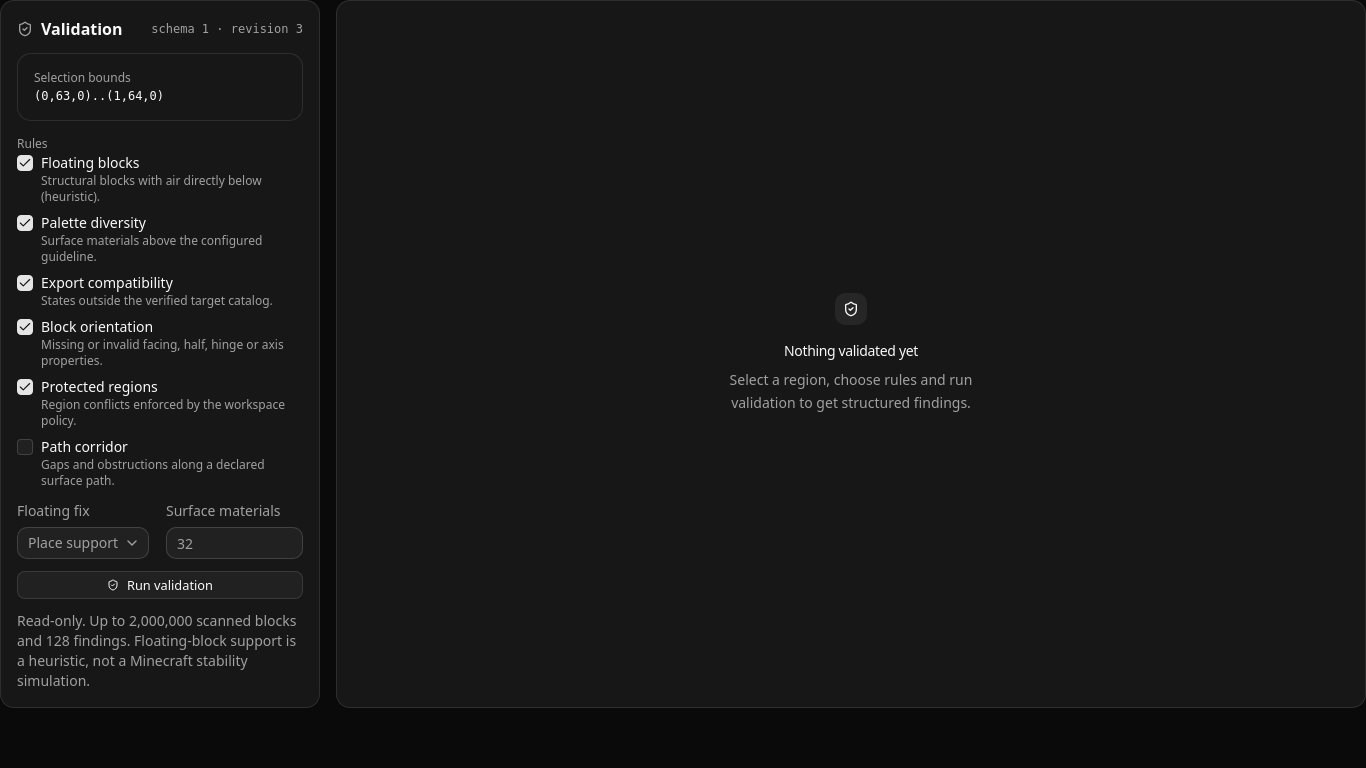
validation panel › runs the default rules and previews a suggested fix
Expected: the text "(0,63,0)..(1,64,0)" is shown, [34,89,164,103]
Click the button "Run validation". click: (160, 585)
box: [17,571,303,599]
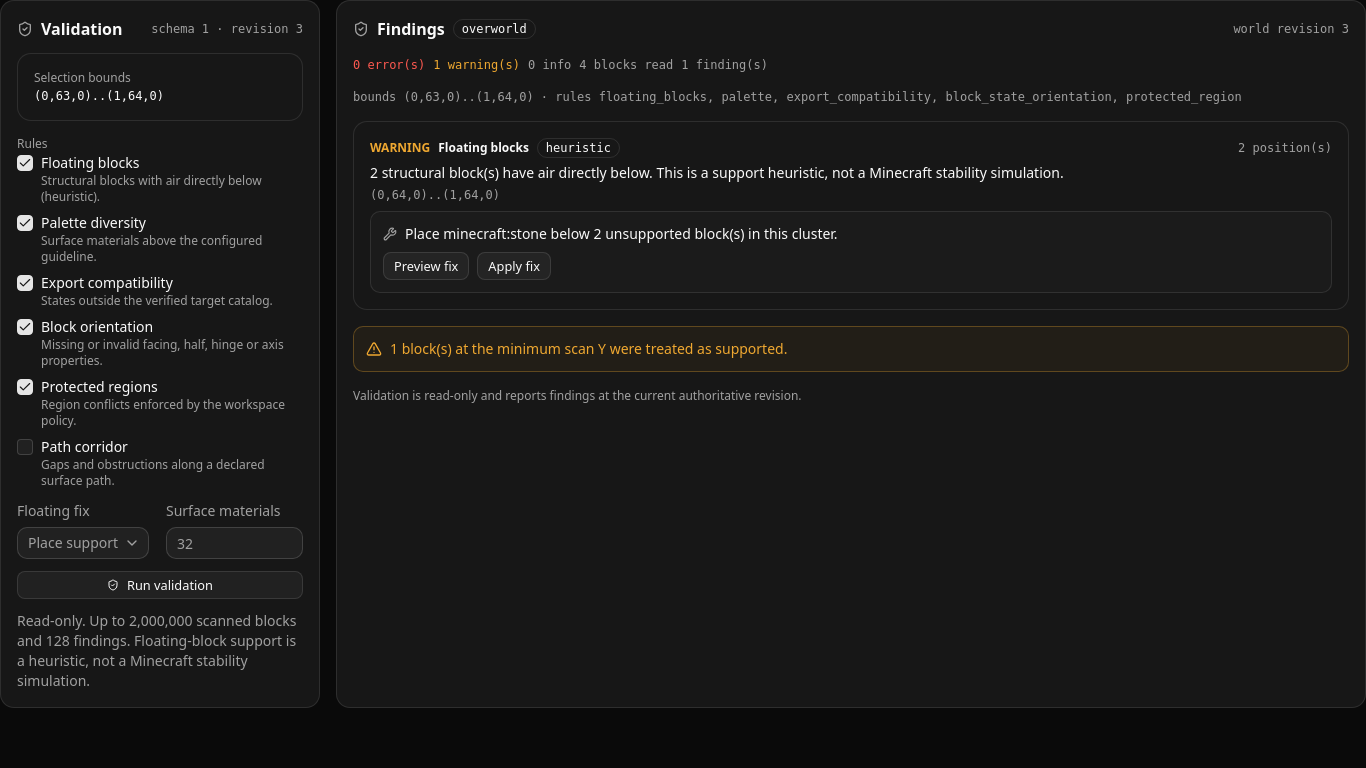
Expected: the text "world revision 3" is shown, [1233,21,1349,37]
Expected: the text "1 warning(s)" is shown, [433,57,520,73]
Expected: the text "2 structural block(s) have air directly below" is shown, [370,163,1064,182]
Click the button "Preview fix". click: (426, 266)
box: [383,252,469,280]
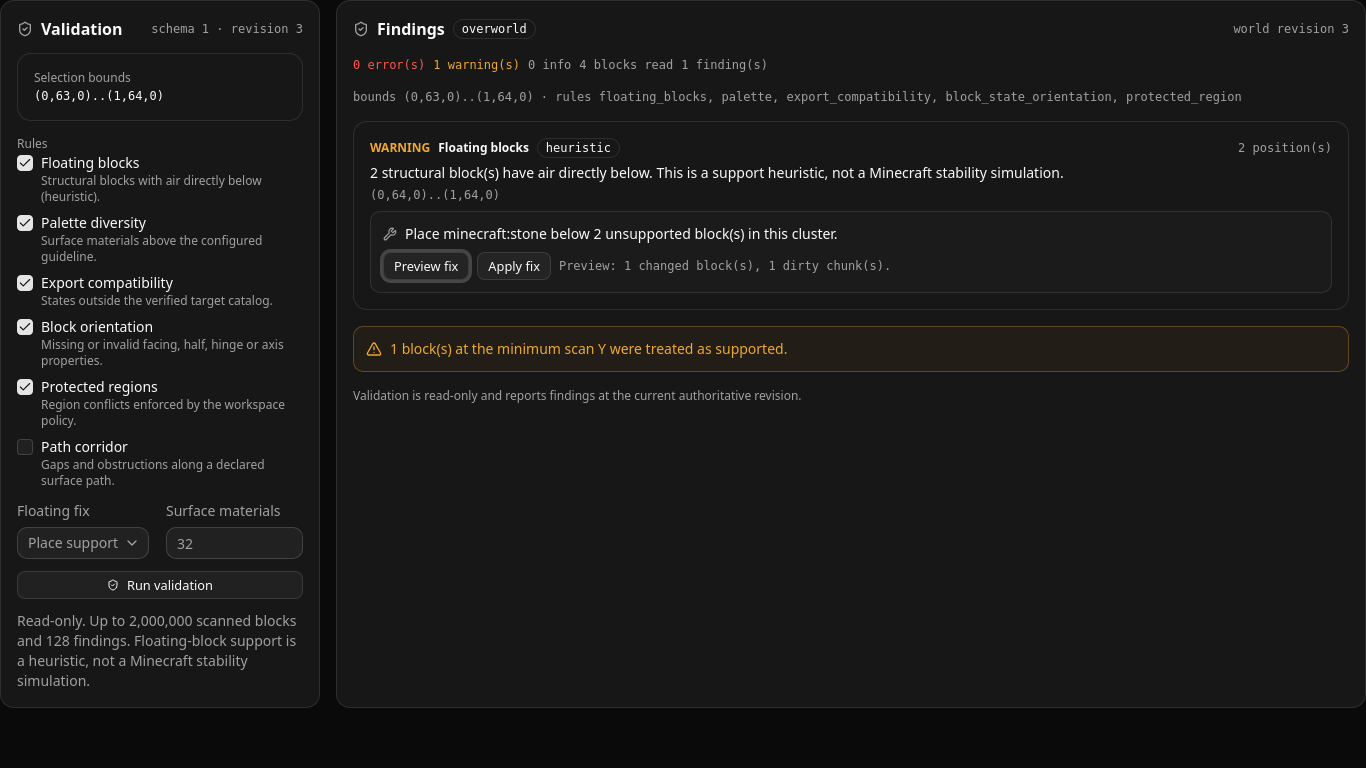
Expected: the text "Preview: 1 changed block(s), 1 dirty chunk(s)." is shown, [559,258,891,274]
